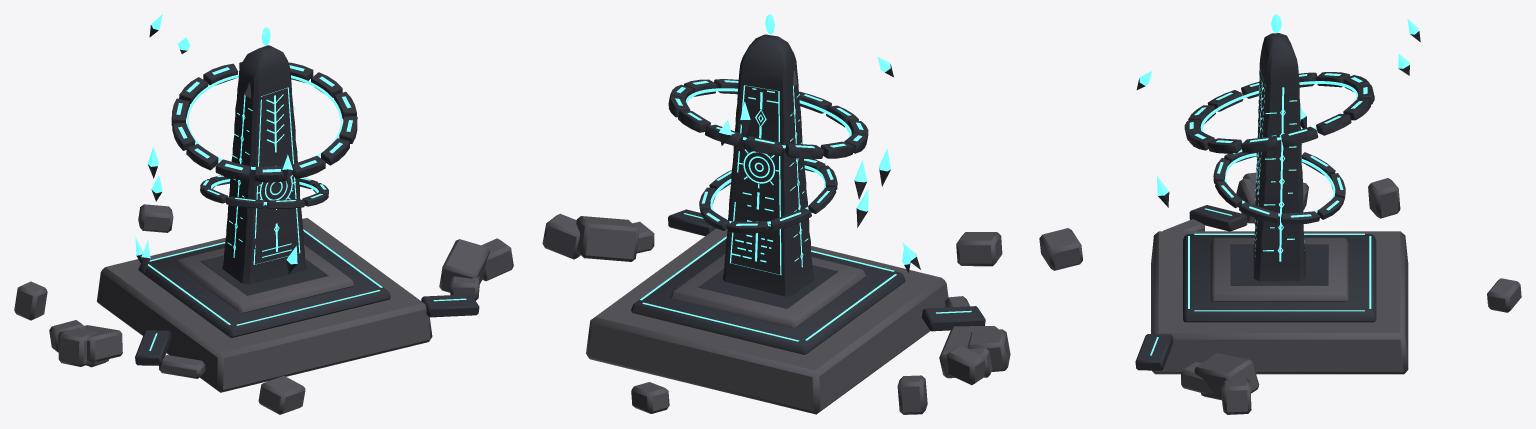
Rendered from beacon_monolith_a.glb.
3 views of the same model, side by side, from view 1: azimuth 30°, elevation 25°; view 2: azimuth 150°, elevation 25°; view 3: azimuth 270°, elevation 25° (orthographic). The views are drawn at different scales.
Parts seen in each view (by area): view 1: Monolith, Ring_Outer, Ring_Inner, Shards; view 2: Monolith, Ring_Outer, Ring_Inner, Shards; view 3: Monolith, Ring_Outer, Ring_Inner, Shards.
Part boxes in pixels (x1,y1,x2,y2): Monolith: (14, 27, 513, 414); Ring_Outer: (171, 62, 357, 182); Ring_Inner: (200, 175, 328, 208); Shards: (135, 14, 297, 273); Monolith: (542, 14, 1010, 414); Ring_Outer: (668, 79, 868, 159); Ring_Inner: (699, 159, 837, 233); Shards: (718, 56, 920, 272); Monolith: (1039, 14, 1521, 414); Ring_Outer: (1184, 72, 1374, 153); Ring_Inner: (1213, 149, 1345, 224); Shards: (1136, 18, 1420, 207).
Bounding box in the file's own units: 13.11 × 8.54 × 12.13.
